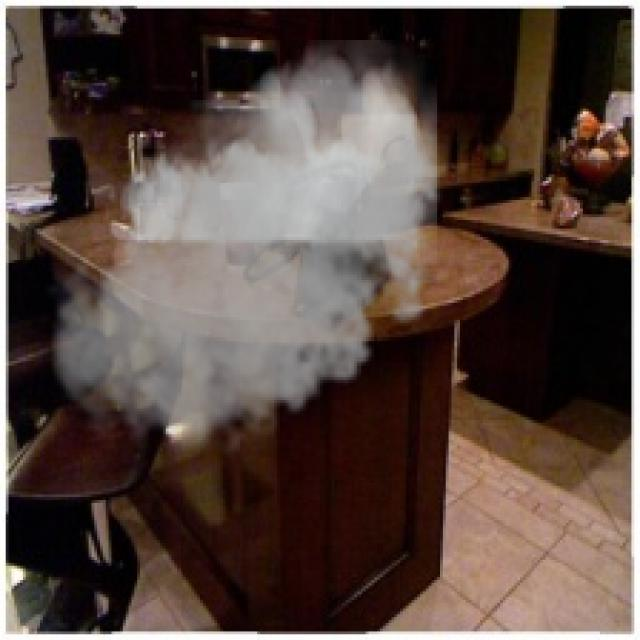smoke: (43, 40, 454, 466)
